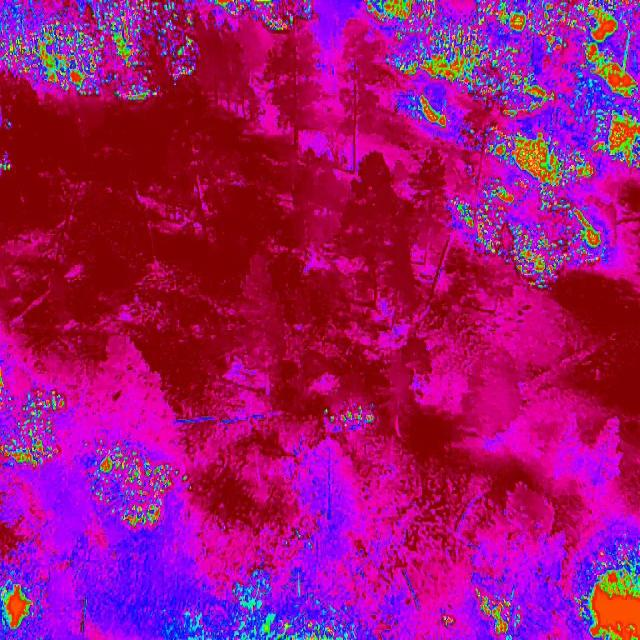fire: (393, 38, 640, 132), (0, 0, 199, 104), (444, 181, 613, 287), (187, 577, 377, 640), (366, 0, 640, 38), (90, 438, 176, 528), (482, 134, 640, 178), (0, 376, 70, 470), (573, 549, 640, 640), (467, 587, 527, 640), (0, 570, 45, 640), (212, 0, 313, 31)
